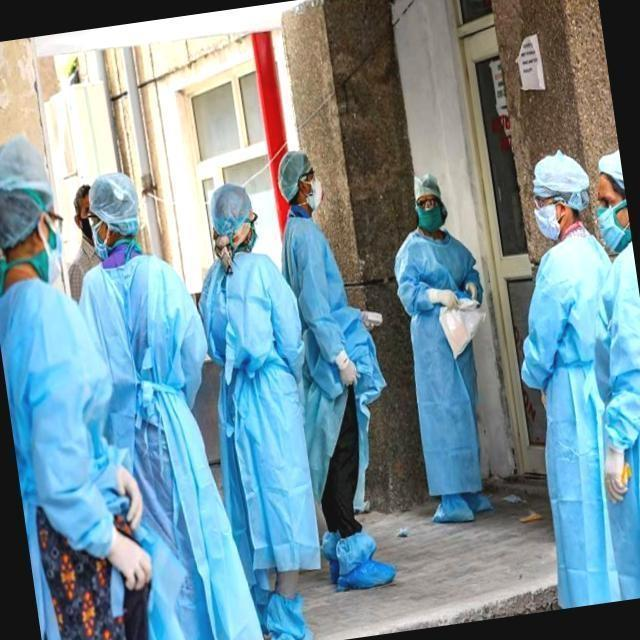apron: (109, 522, 153, 597), (598, 443, 632, 509), (110, 466, 144, 518), (423, 276, 465, 316), (330, 343, 364, 390), (363, 308, 386, 328)
gloves: (0, 137, 44, 243), (89, 176, 146, 224), (202, 180, 248, 230), (539, 147, 579, 199), (601, 143, 640, 187), (276, 144, 304, 197), (407, 166, 433, 200)
mask: (586, 209, 637, 245), (418, 200, 454, 230), (534, 206, 562, 236)
